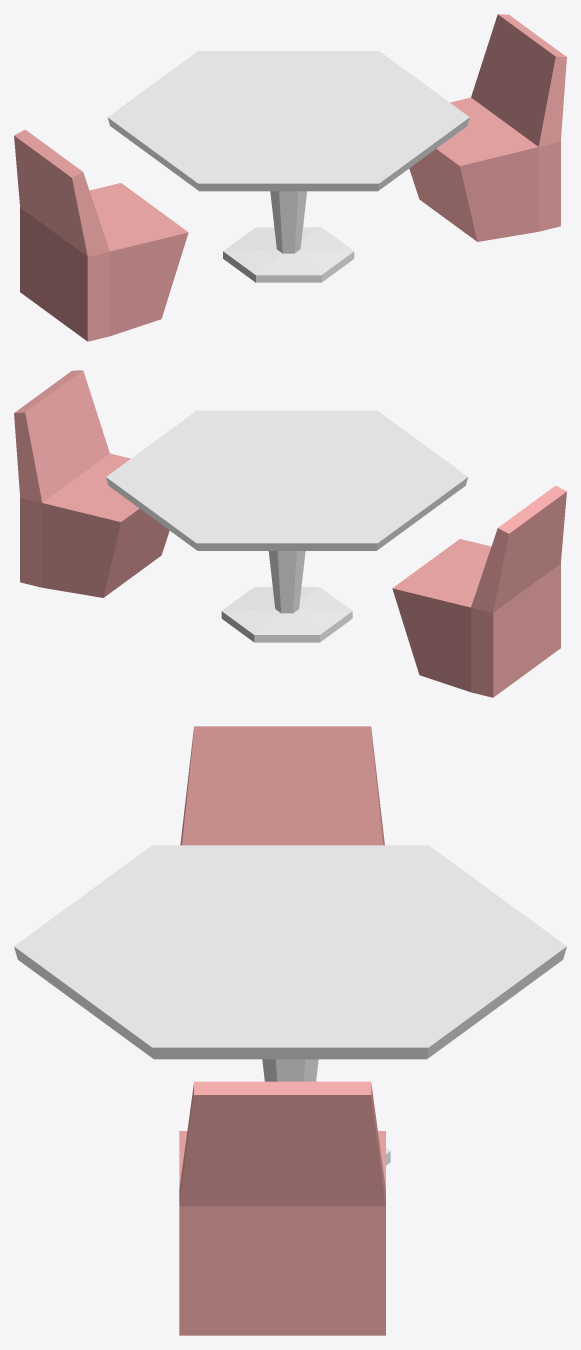
Rendered from Tisch&Stühle.fbx.
The picture shows the model from 3 angles, top to bottom: view 1: azimuth 30°, elevation 25°; view 2: azimuth 150°, elevation 25°; view 3: azimuth 270°, elevation 25°; orthographic projection. The views are drawn at different scales.
Visible parts, largest first — view 1: Disc.2, Cube.1, Cube.2; view 2: Disc.2, Cube.1, Cube.2; view 3: Disc.2, Cube.2, Cube.1.
Part boxes in pixels (x1=…): Disc.2: x1=107, y1=51, x2=469, y2=282; Cube.1: x1=14, y1=129, x2=188, y2=341; Cube.2: x1=409, y1=14, x2=566, y2=241; Disc.2: x1=106, y1=410, x2=467, y2=642; Cube.1: x1=392, y1=485, x2=566, y2=697; Cube.2: x1=14, y1=370, x2=169, y2=597; Disc.2: x1=14, y1=845, x2=566, y2=1165; Cube.2: x1=179, y1=1081, x2=385, y2=1335; Cube.1: x1=180, y1=726, x2=384, y2=845.
Size of the model in its own units: 610 by 198 by 387.
